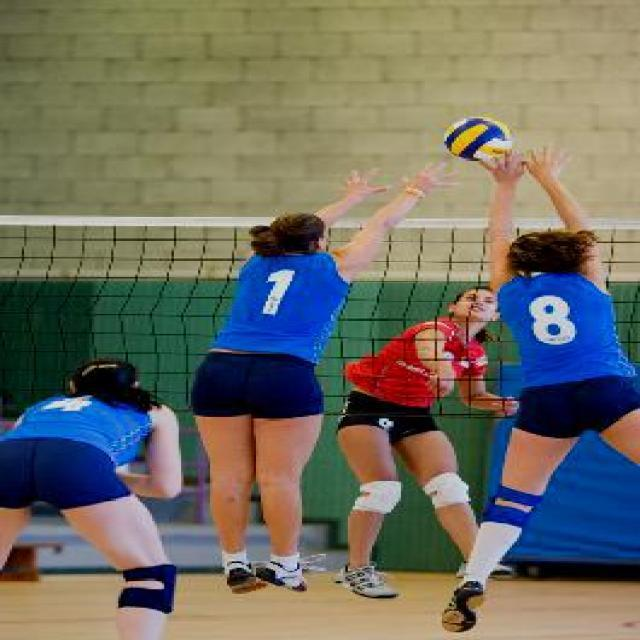volleyball: (443, 116, 512, 163)
